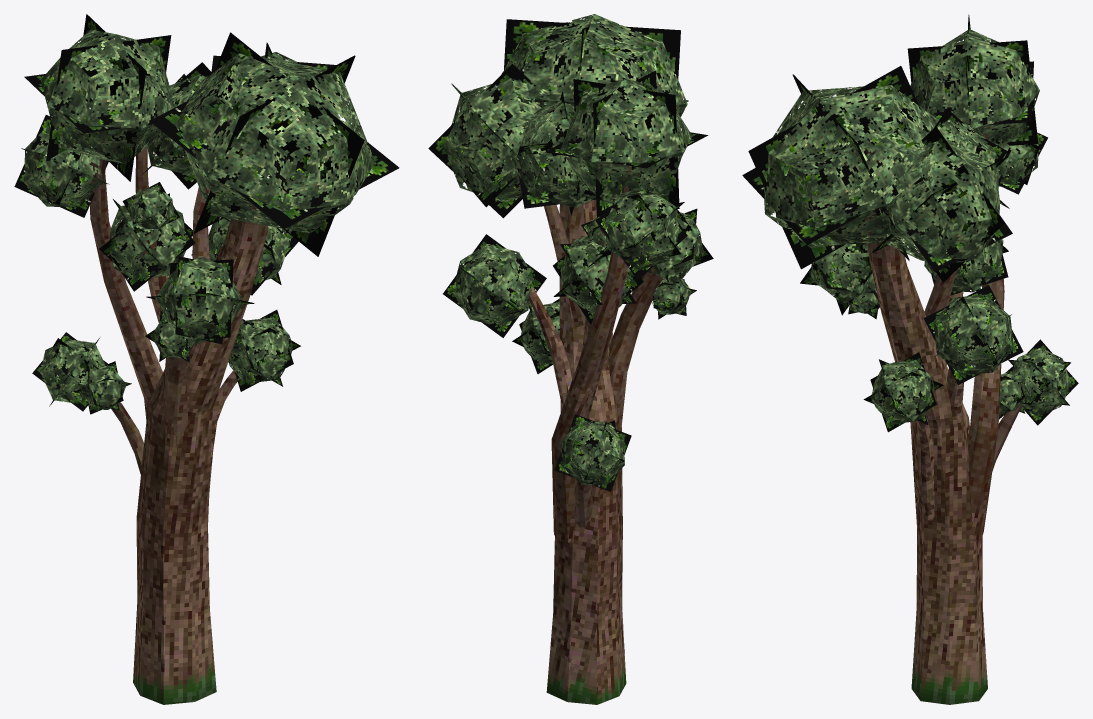
Rendered from oak1.glb.
3 renders of one model, left to right at view 1: azimuth 30°, elevation 25°; view 2: azimuth 150°, elevation 25°; view 3: azimuth 270°, elevation 25°, orthographic. The views are drawn at different scales.
Parts seen in each view (by area): view 1: oak1; view 2: oak1; view 3: oak1.
Part boxes in pixels (x1,y1,x2,y2): oak1: (14,14,399,704); oak1: (428,14,713,704); oak1: (742,14,1078,704).
Size of the model in its own units: 6.43 by 14.33 by 6.86.
3 materials, 3 textured.
